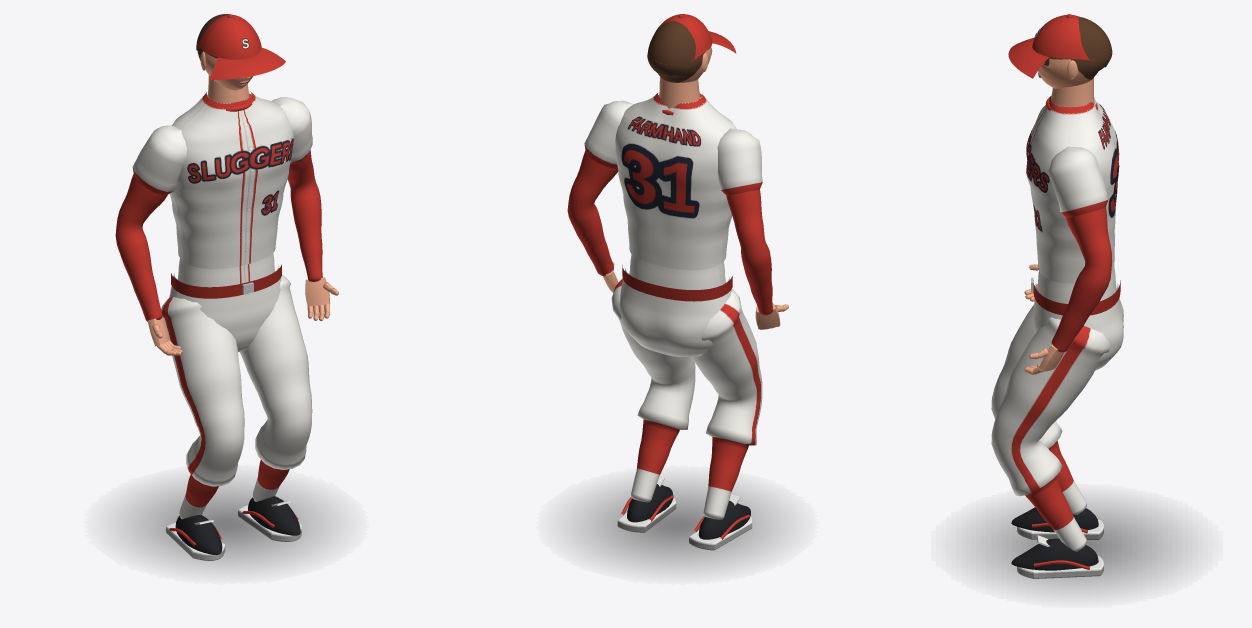
Rendered from player_22_home.glb.
The picture shows the model from 3 angles, left to right: view 1: azimuth 30°, elevation 25°; view 2: azimuth 150°, elevation 25°; view 3: azimuth 270°, elevation 25°; orthographic projection. The views are drawn at different scales.
Parts seen in each view (by area): view 1: player_22_home, object 30, object 32, object 2; view 2: player_22_home, object 29, object 2, object 30; view 3: player_22_home, object 30, object 29, object 34, object 32, object 2.
Boxes of the visible parts, bbox=[...] form: player_22_home: bbox=[115, 91, 334, 570]; object 30: bbox=[196, 14, 261, 59]; object 32: bbox=[209, 47, 285, 79]; object 2: bbox=[207, 75, 249, 102]; player_22_home: bbox=[567, 93, 785, 570]; object 29: bbox=[647, 21, 711, 76]; object 2: bbox=[659, 77, 700, 108]; object 30: bbox=[652, 14, 712, 64]; player_22_home: bbox=[966, 96, 1187, 592]; object 30: bbox=[1032, 14, 1112, 60]; object 29: bbox=[1049, 16, 1112, 67]; object 34: bbox=[1038, 58, 1103, 88]; object 32: bbox=[1008, 37, 1049, 78]; object 2: bbox=[1051, 77, 1094, 106].
Bounding box in the file's own units: 3.43 × 6.35 × 3.43.
27 materials, 5 textured.
